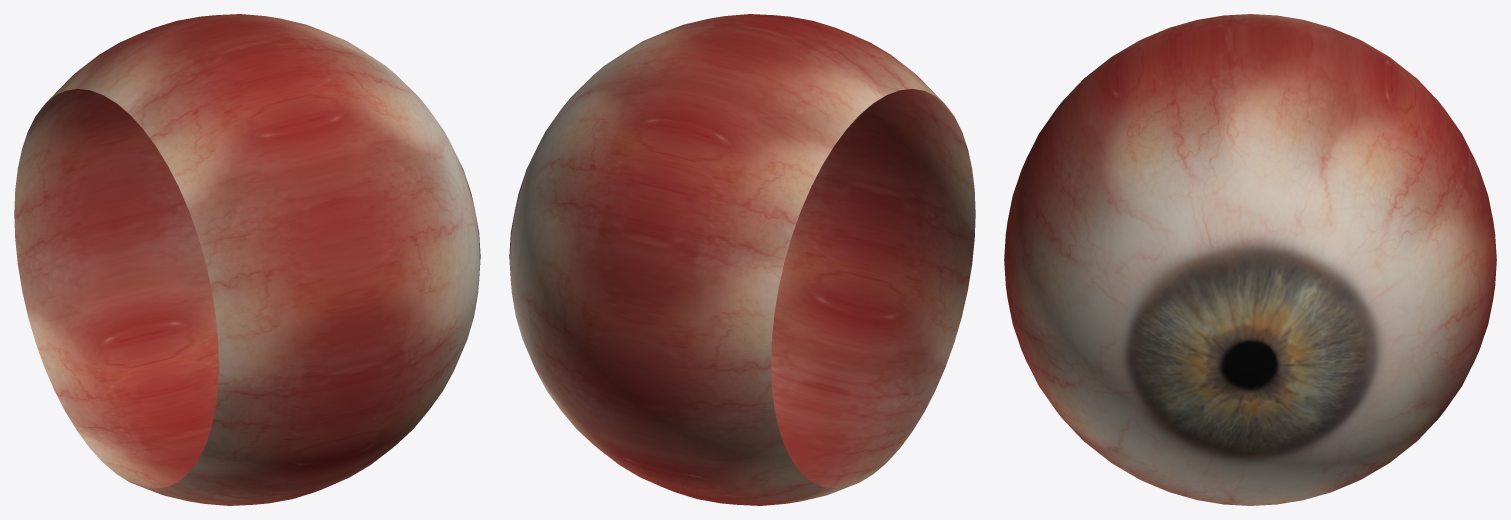
The model's file is EyeTexture.fbx.
3 renders of one model, left to right at view 1: azimuth 30°, elevation 25°; view 2: azimuth 150°, elevation 25°; view 3: azimuth 270°, elevation 25°, orthographic.
Visible parts, largest first — view 1: Round; view 2: Round; view 3: Round.
Part boxes in pixels (x1,y1,x2,y2): Round: (14, 14, 480, 505); Round: (509, 14, 975, 505); Round: (1004, 14, 1496, 505).
Size of the model in its own units: 342 by 440 by 440.
